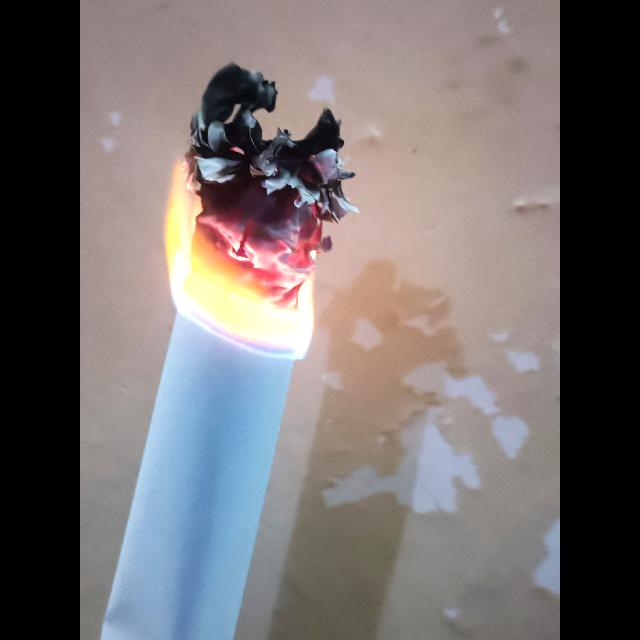fire: (167, 65, 352, 358)
